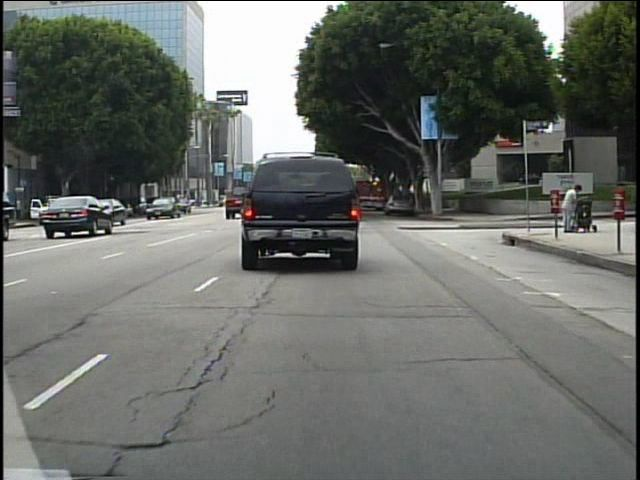person: (557, 179, 580, 234)
